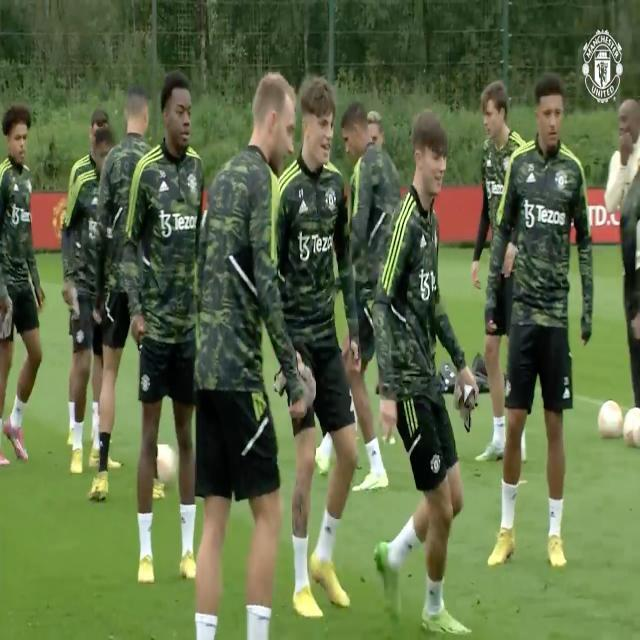Adidas: (419, 230, 428, 251), (299, 200, 309, 217), (526, 172, 538, 185), (160, 179, 170, 194)
